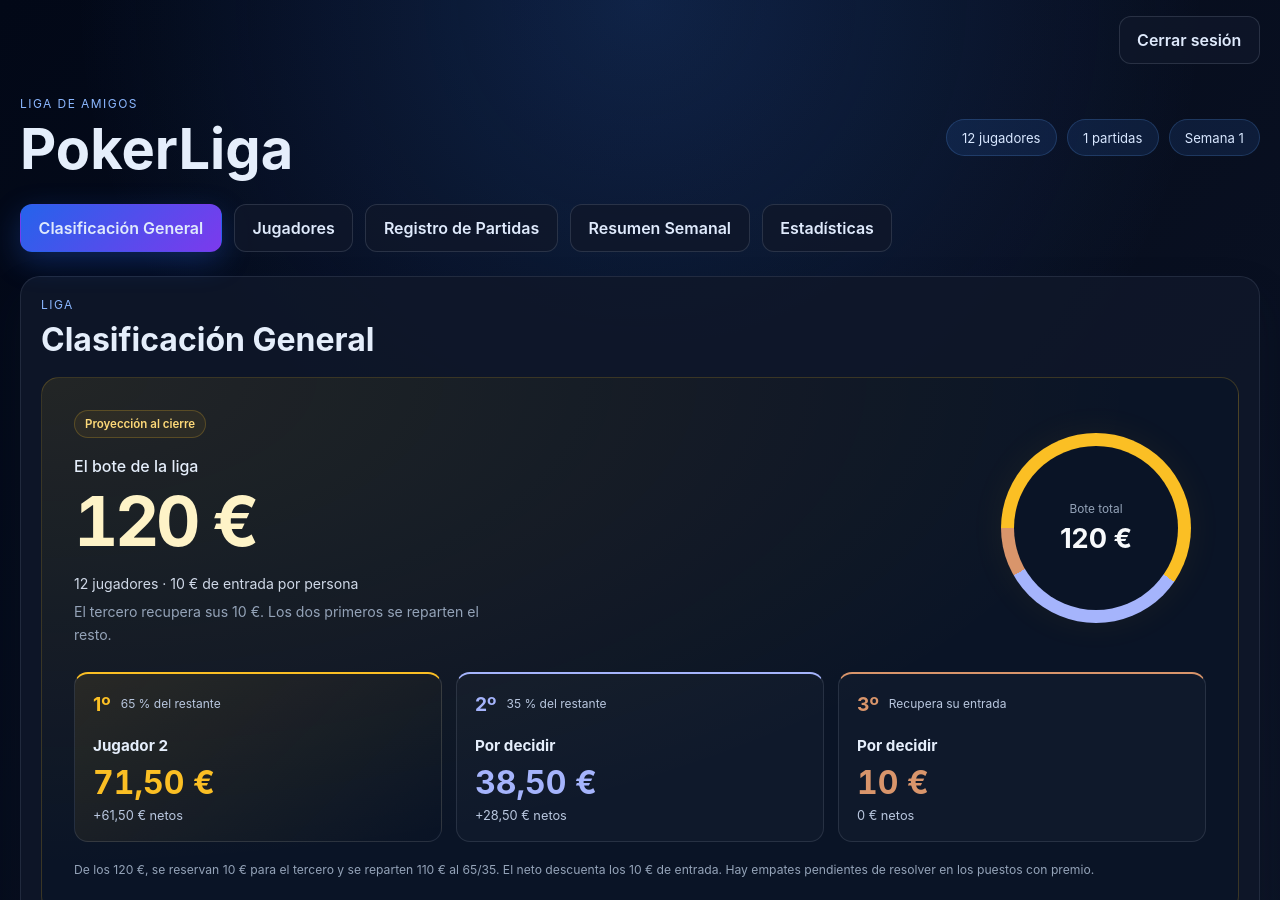
Test: saves an adjustable player count and displays it alongside historical results
Click the button "Registro de Partidas".
click(462, 228)  # box [365,204,558,252]
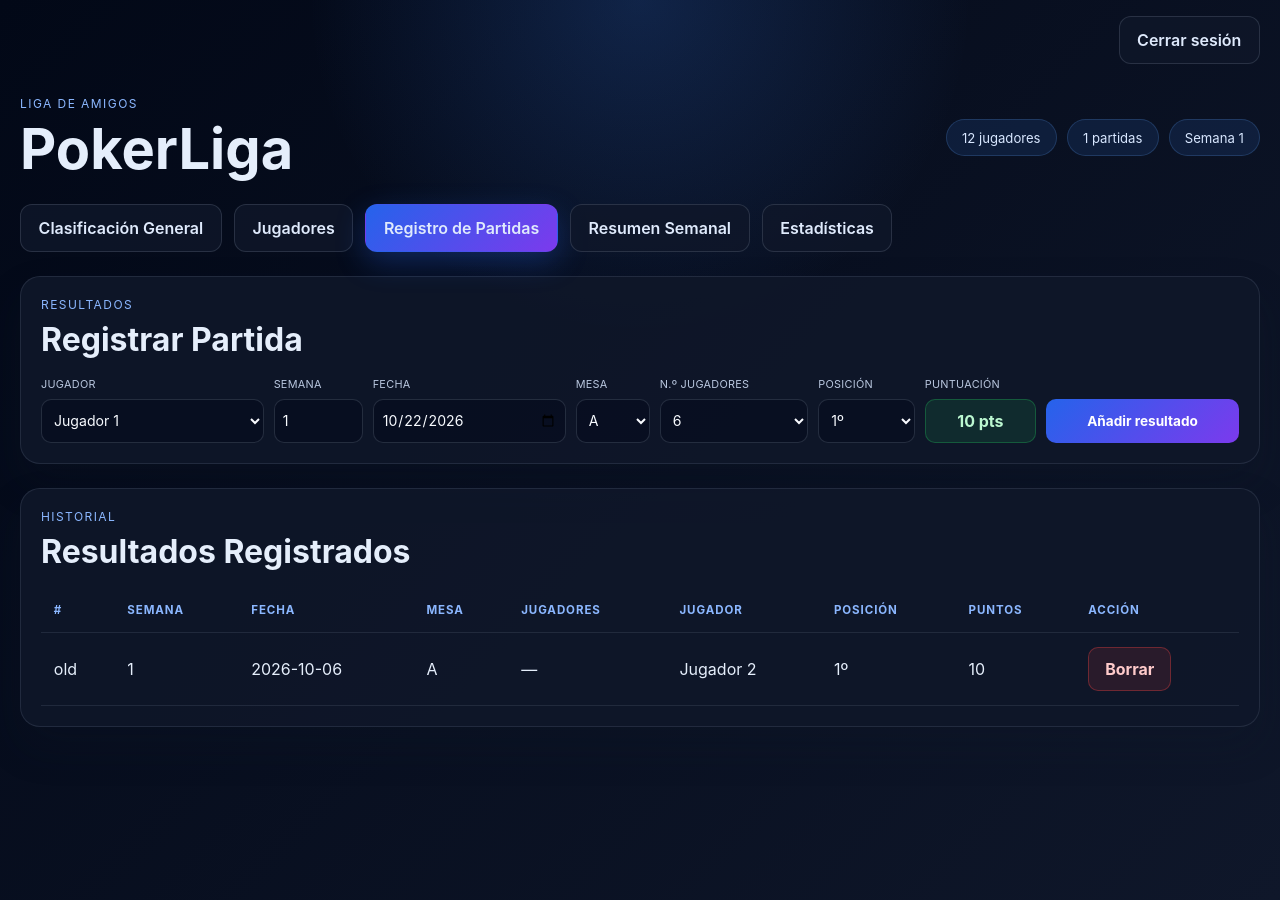
expect the dropdown named "Número de jugadores" shows "6": met
Select "8" in the dropdown named "Número de jugadores" at (734, 421), box [660,399,808,443]
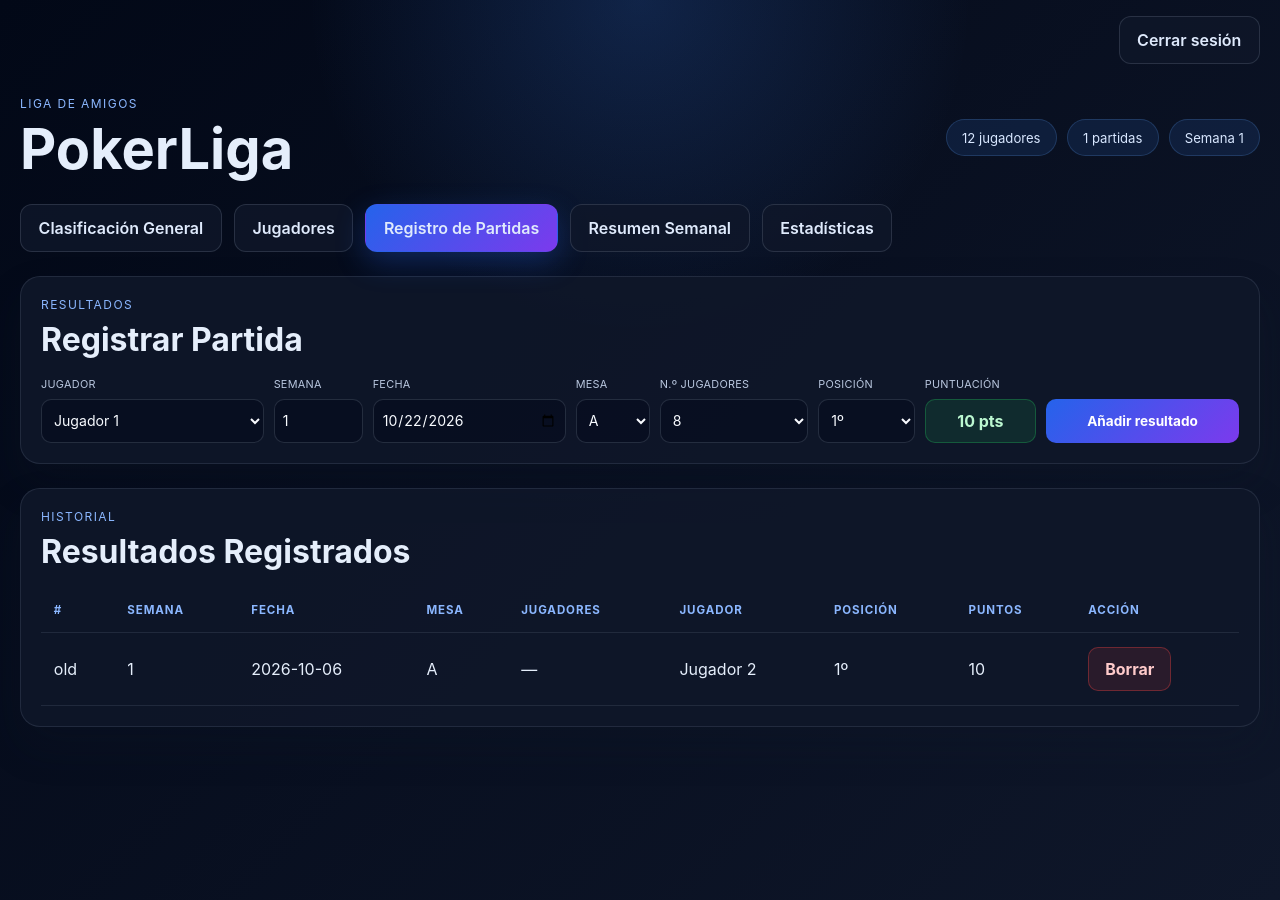
Select "8º" in the dropdown labelled "Posición" at (867, 421), box [818,399,915,443]
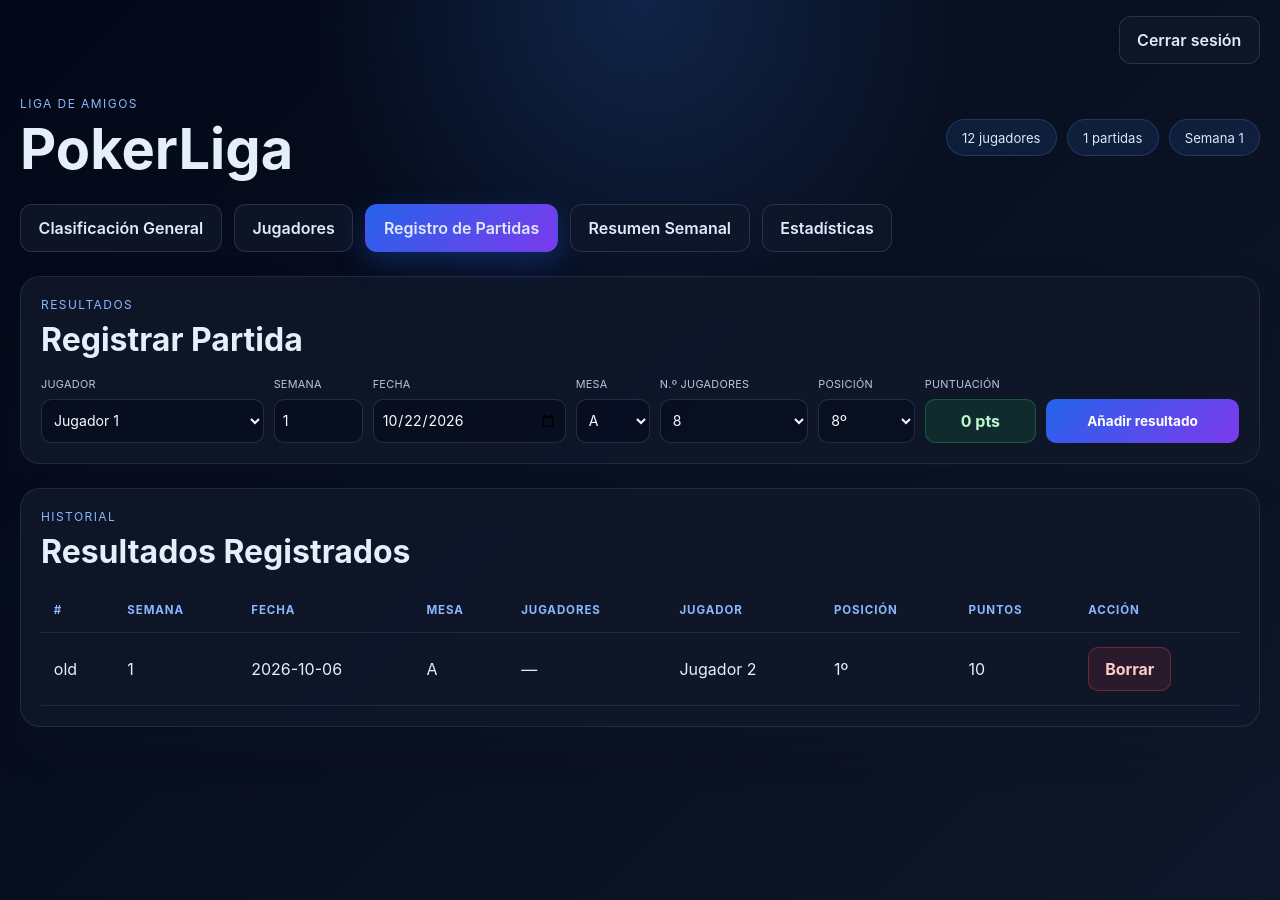
expect the text "0 pts" is shown: met, box [925,399,1036,443]
Click the button "Añadir resultado".
click(1142, 421)  # box [1046,399,1239,443]
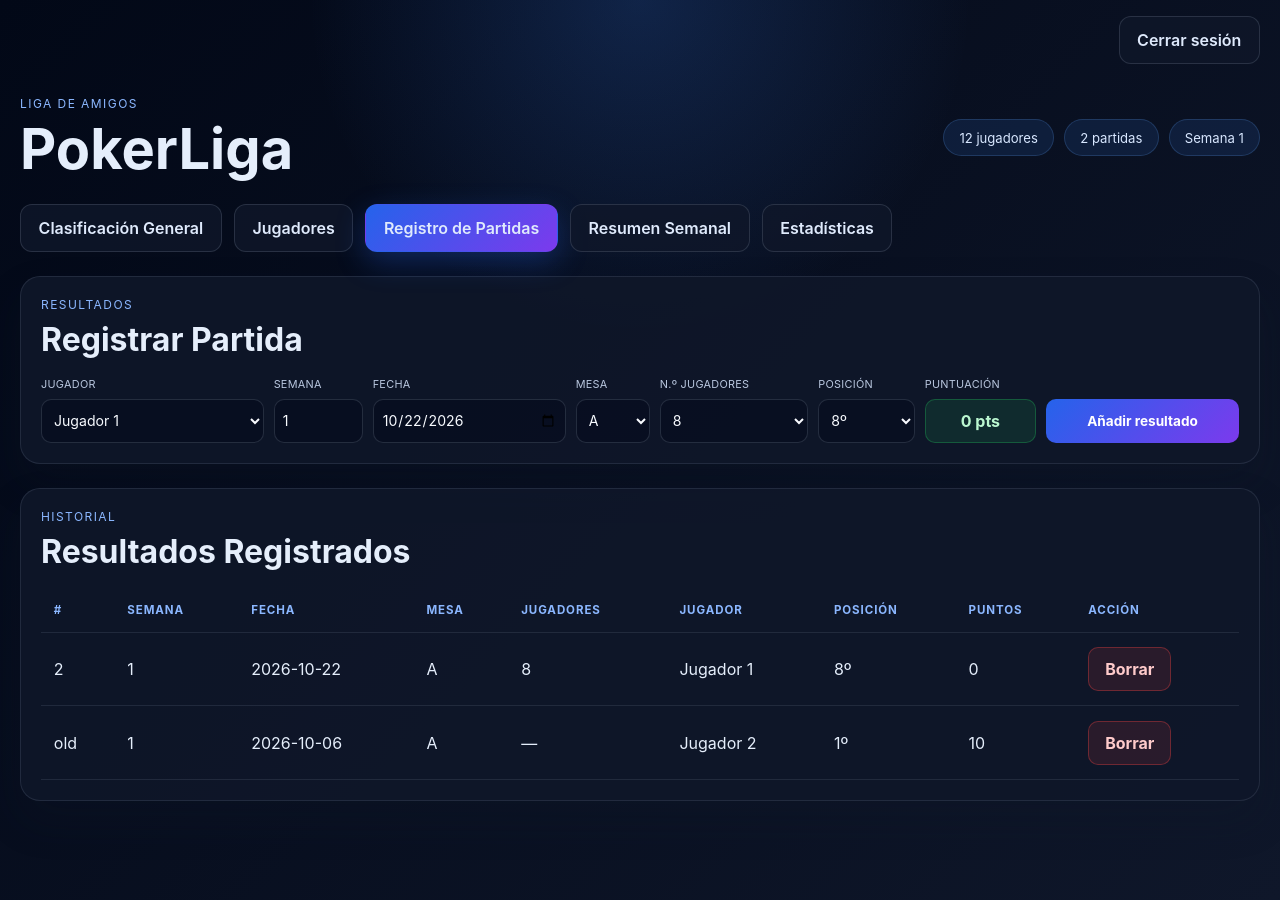
expect the text "—" is shown: met, box [508,706,667,780]
expect the text "8" is shown: met, box [508,632,667,706]
